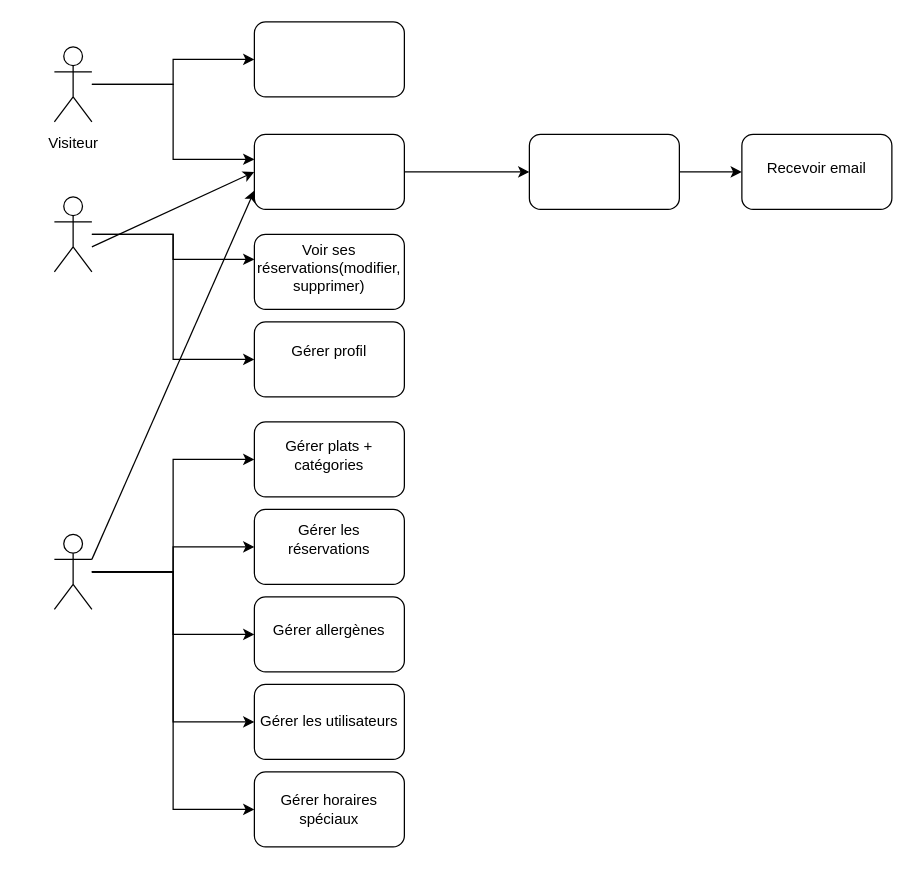
Some shapes in this 914 by 869 pixel diagram are drawn without their labels. The shapes that lost their labels are listed below. From the top down, each one's centre as x and y in pixels, then its label:
At point 328,59: "Se connecter /S'inscrire".
At point 328,171: "Consulter le site".
At point 603,171: "Faire une réservation".
At point 72,234: "C lient connecté".
At point 72,571: "Admin".
